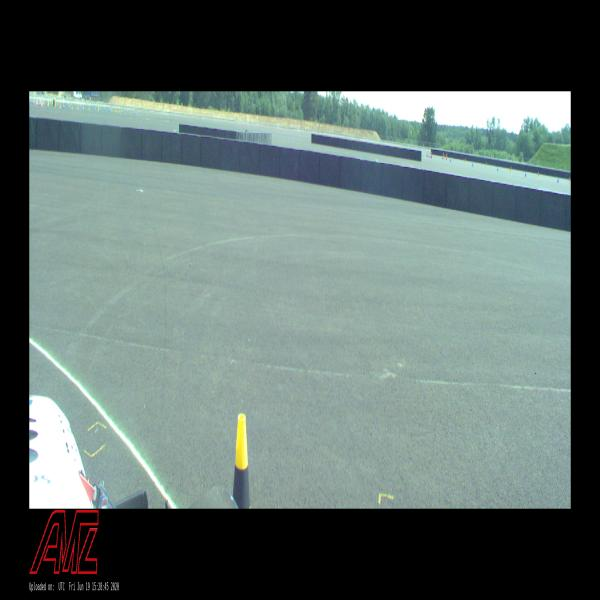yellow_cone: (233, 415, 251, 508)
